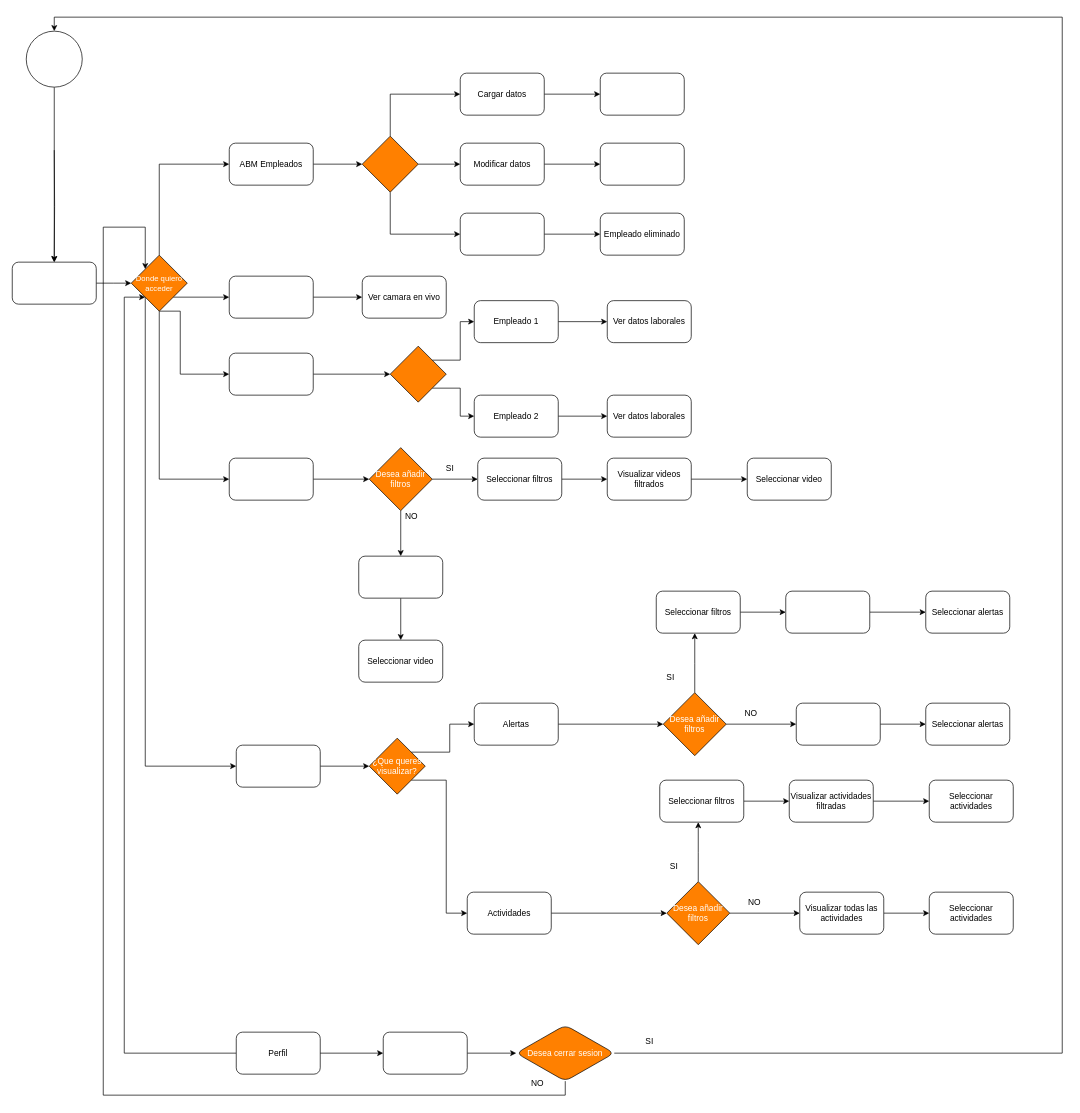
Some shapes in this 1080 by 1113 pixel diagram are drawn without their labels. The shapes that lost their labels are listed below. From the top down, each one's centre as x and y in pixels, then its label:
pixel 54 58: INICIO
pixel 642 93: Datos cargados
pixel 390 163: ¿Que queres editar?
pixel 642 163: Datos modificados
pixel 502 233: Eliminar empleado
pixel 54 282: Acceder
pixel 271 296: Ao Vivo
pixel 271 373: Metrica
pixel 418 373: Seleccionar empleado
pixel 271 478: Grabacion
pixel 400 576: Visualizar todos los videos
pixel 827 611: Visualizar alertas filtradas
pixel 838 723: Visualizar todas las alertas
pixel 278 765: Contenido
pixel 425 1052: Ver datos del usuario
